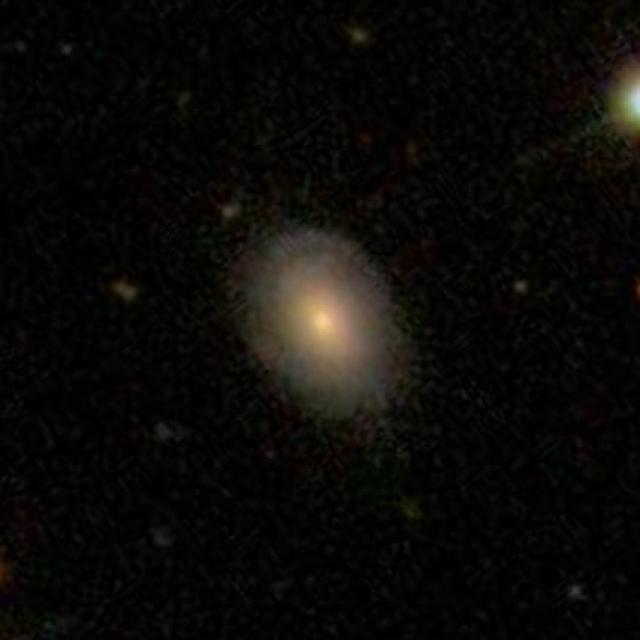galaxy: (235, 227, 426, 453), (518, 31, 640, 179), (146, 523, 179, 555), (340, 18, 370, 53), (148, 418, 180, 450), (505, 277, 540, 306), (103, 278, 140, 303), (565, 577, 593, 608), (219, 195, 243, 222)
